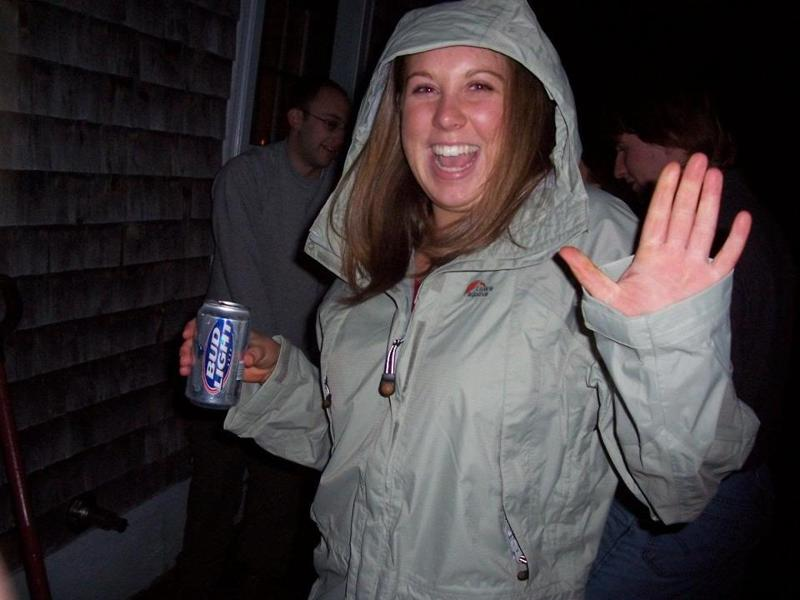person: (180, 1, 755, 600)
